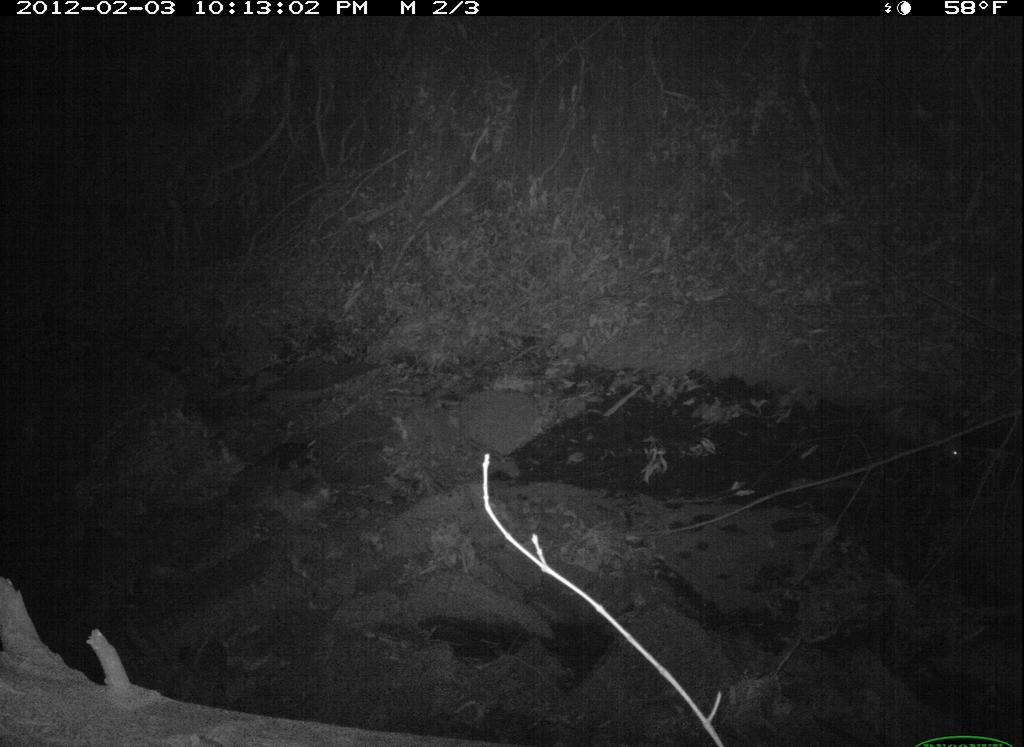opossum: (851, 394, 976, 477)
